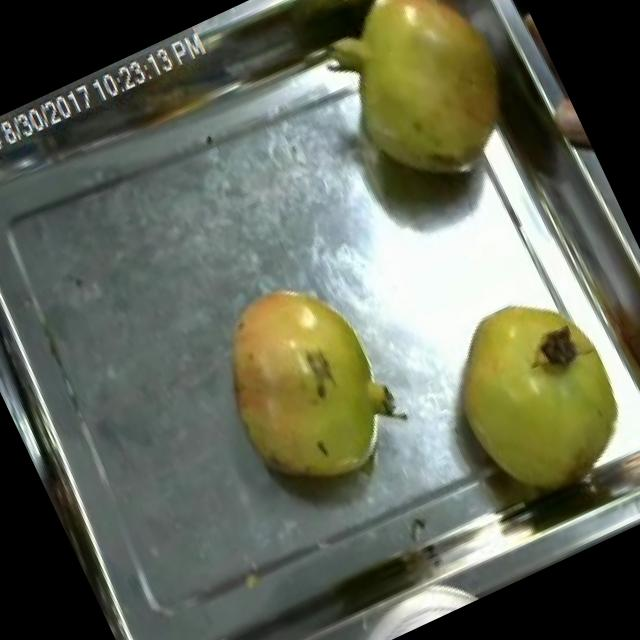fruit: (178, 242, 440, 529), (413, 263, 640, 525), (292, 0, 551, 218)
